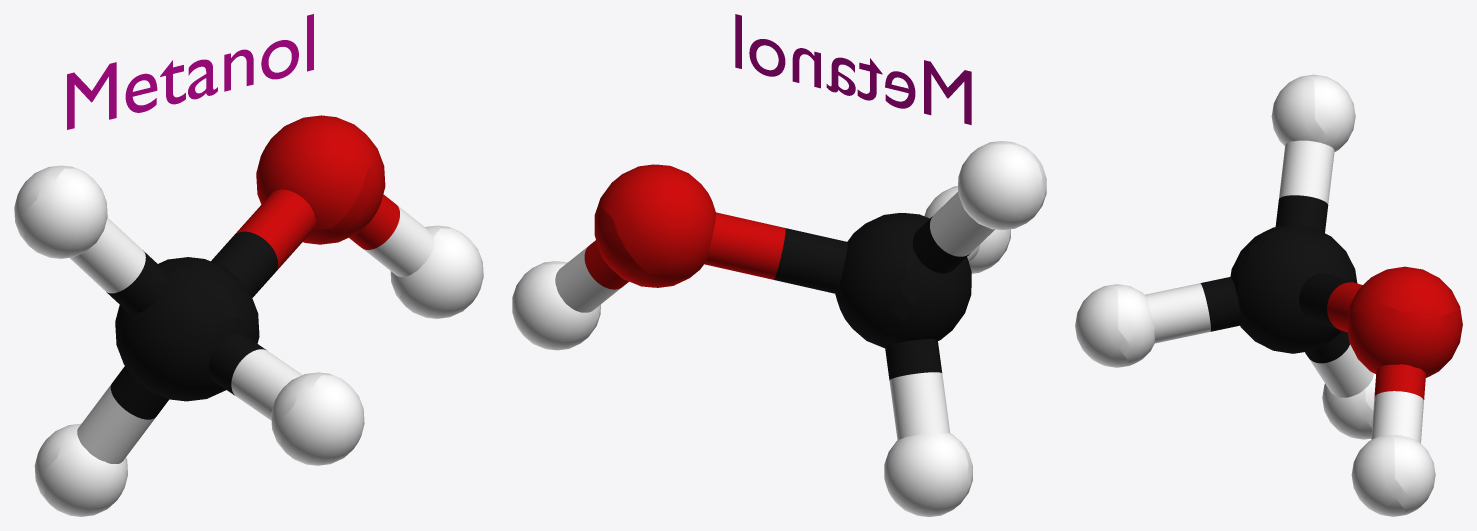
File: metanol.obj
The picture shows the model from 3 angles, left to right: view 1: azimuth 30°, elevation 25°; view 2: azimuth 150°, elevation 25°; view 3: azimuth 270°, elevation 25°; orthographic projection. The views are drawn at different scales.
Parts seen in each view (by area): view 1: Shape_IndexedFaceSet.016_Shape_IndexedFaceSet.327, Shape_IndexedFaceSet.022_Shape_IndexedFaceSet.328, Shape_IndexedFaceSet.006_Shape_IndexedFaceSet.325, Text_Text.023; view 2: Shape_IndexedFaceSet.016_Shape_IndexedFaceSet.327, Shape_IndexedFaceSet.022_Shape_IndexedFaceSet.328, Shape_IndexedFaceSet.006_Shape_IndexedFaceSet.325, Text_Text.023; view 3: Shape_IndexedFaceSet.016_Shape_IndexedFaceSet.327, Shape_IndexedFaceSet.022_Shape_IndexedFaceSet.328, Shape_IndexedFaceSet.006_Shape_IndexedFaceSet.325.
Boxes of the visible parts, bbox=[...] form: Shape_IndexedFaceSet.016_Shape_IndexedFaceSet.327: bbox=[14, 165, 483, 516]; Shape_IndexedFaceSet.022_Shape_IndexedFaceSet.328: bbox=[106, 231, 277, 419]; Shape_IndexedFaceSet.006_Shape_IndexedFaceSet.325: bbox=[234, 115, 399, 271]; Text_Text.023: bbox=[67, 14, 313, 129]; Shape_IndexedFaceSet.016_Shape_IndexedFaceSet.327: bbox=[512, 141, 1046, 516]; Shape_IndexedFaceSet.022_Shape_IndexedFaceSet.328: bbox=[774, 213, 971, 380]; Shape_IndexedFaceSet.006_Shape_IndexedFaceSet.325: bbox=[584, 164, 785, 289]; Text_Text.023: bbox=[735, 14, 971, 124]; Shape_IndexedFaceSet.016_Shape_IndexedFaceSet.327: bbox=[1075, 74, 1435, 516]; Shape_IndexedFaceSet.022_Shape_IndexedFaceSet.328: bbox=[1200, 195, 1357, 363]; Shape_IndexedFaceSet.006_Shape_IndexedFaceSet.325: bbox=[1327, 266, 1462, 399].
Size of the model in its own units: 31.2 by 27.15 by 23.34.
